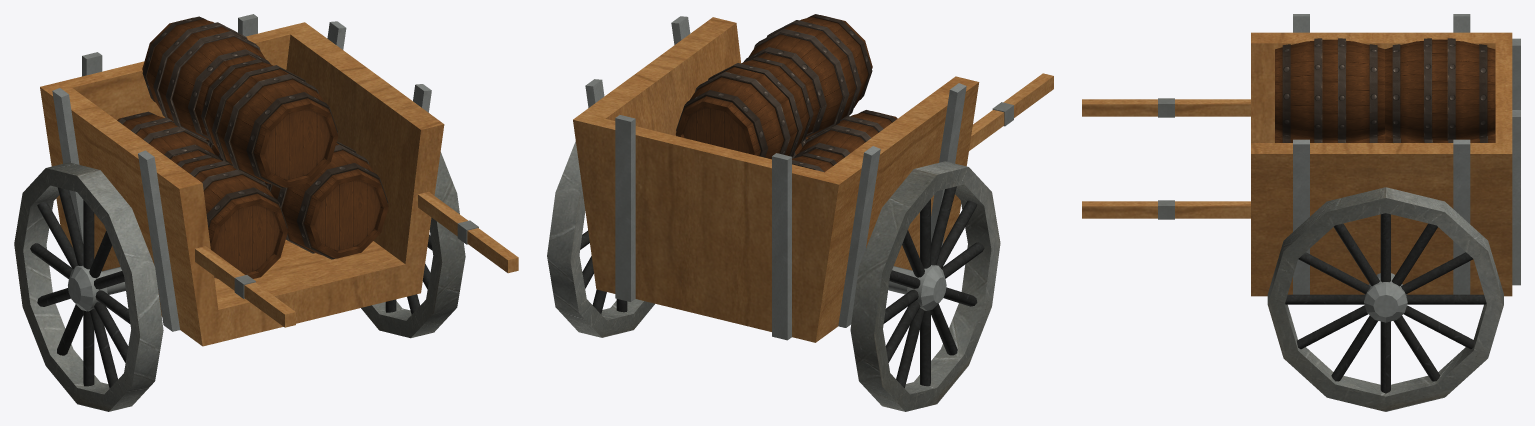
File: cart.fbx
3 renders of one model, left to right at view 1: azimuth 30°, elevation 25°; view 2: azimuth 150°, elevation 25°; view 3: azimuth 270°, elevation 25°, orthographic. The views are drawn at different scales.
Parts seen in each view (by area): view 1: Box001; view 2: Box001; view 3: Box001.
Part boxes in pixels (bbox=[...]): Box001: bbox=[14, 14, 518, 411]; Box001: bbox=[547, 14, 1053, 411]; Box001: bbox=[1082, 14, 1520, 411].
Size of the model in its own units: 212 by 191 by 260.
